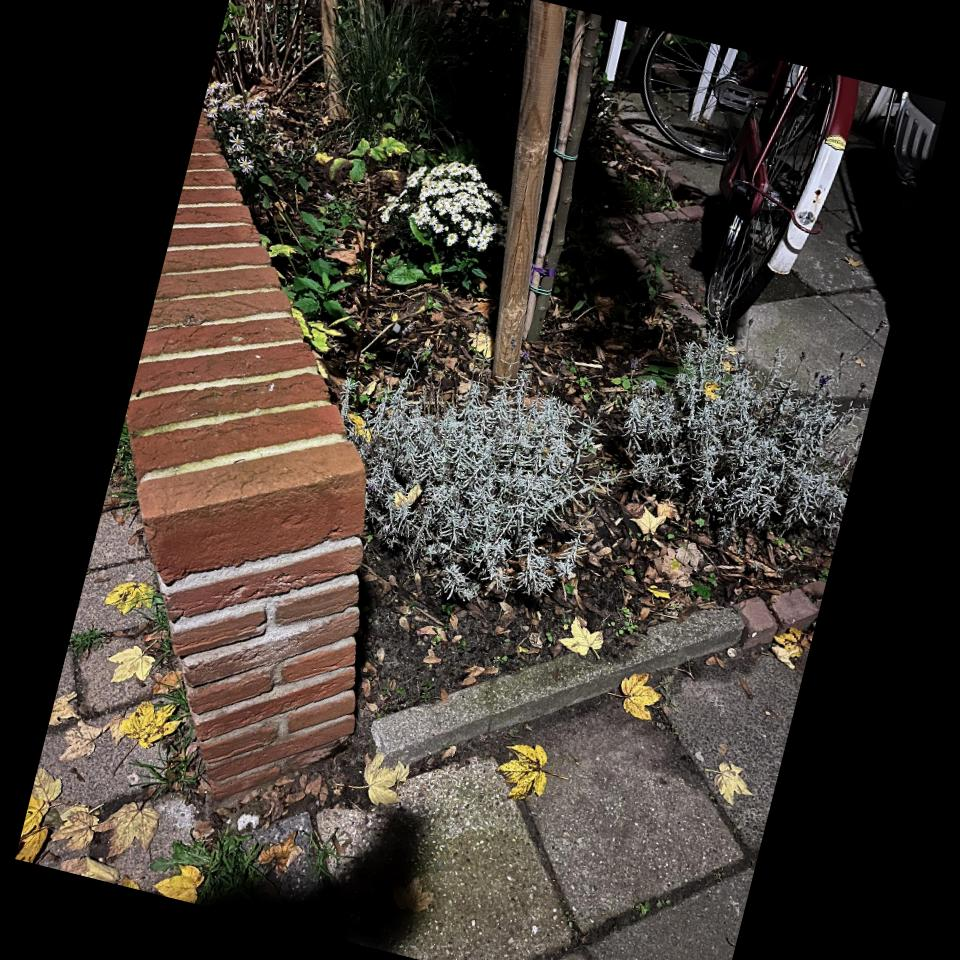weed: (132, 559, 206, 821), (167, 822, 257, 886), (294, 815, 344, 901)
